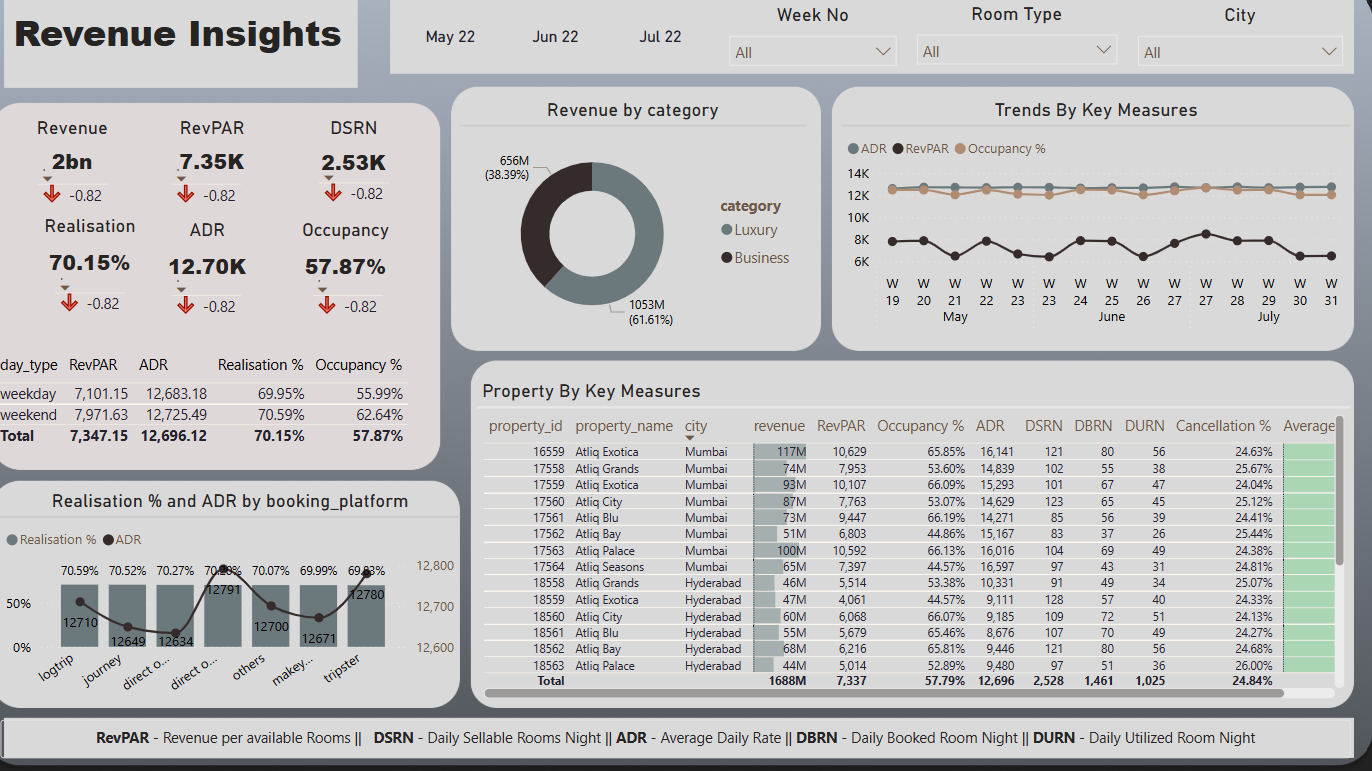

Layout of this report page (visuals, bound fields, positions):
{"tool":"powerbi","page":{"name":"Dashboard","canvas":[1280,720],"ordinal":0},"visuals":[{"type":"tableEx","fields":{"Values":["key_measure.Revenue WoW change %"]},"box":[46.9,149,75.9,73.4],"z":0,"group":"g2"},{"type":"tableEx","title":"Property By Key Measures","fields":{"Values":["dim_hotels.property_id","dim_hotels.property_name","dim_hotels.city","key_measure.revenue","key_measure.RevPAR","key_measure.Occupancy %","key_measure.ADR","key_measure.DSRN","key_measure.DBRN","key_measure.DURN","key_measure.Cancellation %","key_measure.Average Rating"]},"box":[455.8,360.4,797.7,296.5],"z":0,"group":"g3"},{"type":"advancedSlicerVisual","fields":{"Values":["dim_date.mmm yy"]},"box":[381.4,15.1,294.2,61.6],"z":1000,"group":"g3"},{"type":"card","title":"Revenue","fields":{"Values":["key_measure.revenue"]},"box":[26.7,118.6,117.7,67.1],"z":1000,"group":"g2"},{"type":"donutChart","title":"Revenue by category","fields":{"Category":["dim_hotels.category"],"Y":["key_measure.revenue"]},"box":[439.5,103.5,317.4,220.9],"z":2000,"group":"g3"},{"type":"tableEx","fields":{"Values":["key_measure.Revenue WoW change %"]},"box":[63.4,248.9,87.3,62],"z":2000,"group":"g2"},{"type":"slicer","title":"City","fields":{"Values":["dim_hotels.city"]},"box":[1049.5,16,207.4,63.1],"z":3000,"group":"g1"},{"type":"lineChart","title":"Trends By Key Measures","fields":{"Category":["dim_date.mmm yy.Variation.Date Hierarchy.Month","dim_date.week no"],"Y":["key_measure.ADR","key_measure.RevPAR"],"Y2":["key_measure.Occupancy %"]},"box":[788.3,103.5,465.1,220.9],"z":3000,"group":"g3"},{"type":"card","title":"Realisation","fields":{"Values":["key_measure.Realisation %"]},"box":[46.9,208.4,108.8,72.1],"z":3000,"group":"g2"},{"type":"slicer","title":"Room Type","fields":{"Values":["dim_rooms.room_class"]},"box":[846.8,15.1,203.3,62.4],"z":4000,"group":"g1"},{"type":"tableEx","fields":{"Values":["key_measure.Revenue WoW change %"]},"box":[169.7,251.5,83.5,59.5],"z":4000,"group":"g2"},{"type":"lineStackedColumnComboChart","fields":{"Y":["key_measure.Realisation %"],"Category":["fact_booking.booking_platform"],"Y2":["key_measure.ADR"]},"box":[19.7,460.5,419.8,196.5],"z":4000,"group":"g3"},{"type":"card","title":"ADR","fields":{"Values":["key_measure.ADR"]},"box":[150.7,212.2,115.1,72.1],"z":5000,"group":"g2"},{"type":"tableEx","fields":{"Values":["dim_date.day_type","key_measure.RevPAR","key_measure.ADR","key_measure.Realisation %","key_measure.Occupancy %"]},"box":[8.8,331.9,415.1,103.5],"z":5000,"group":"g3"},{"type":"slicer","title":"Week No","fields":{"Values":["dim_date.week no"]},"box":[675.5,16,173.4,63.1],"z":6000,"group":"g1"},{"type":"tableEx","fields":{"Values":["key_measure.Revenue WoW change %"]},"box":[298.7,251.5,105,59.5],"z":6000,"group":"g2"},{"type":"textbox","box":[19.7,670.9,1233.7,34.9],"z":6000,"group":"g3"},{"type":"textbox","box":[26.7,15.1,333.7,88.4],"z":7000,"group":"g3"},{"type":"card","title":"Occupancy","fields":{"Values":["key_measure.Occupancy %"]},"box":[274.7,212.2,121.5,72.1],"z":7000,"group":"g2"},{"type":"group","id":"g1","title":"Group 1","box":[675.5,15.1,581.4,64],"z":8000,"group":"g3"},{"type":"tableEx","fields":{"Values":["key_measure.Revenue WoW change %"]},"box":[304.6,148.7,82.8,60.1],"z":8000,"group":"g2"},{"type":"group","id":"g2","title":"Group 2","box":[26.7,118.6,377.9,193],"z":9000,"group":"g3"},{"type":"card","title":"DSRN","fields":{"Values":["key_measure.DSRN"]},"box":[281,118.6,122.7,68.3],"z":9000,"group":"g2"},{"type":"group","id":"g3","title":"Group 3","box":[8.8,15.1,1248.1,690.7],"z":9001},{"type":"tableEx","fields":{"Values":["key_measure.Revenue WoW change %"]},"box":[169.7,149,83.5,63.3],"z":10000,"group":"g2"},{"type":"card","title":"RevPAR","fields":{"Values":["key_measure.RevPAR"]},"box":[150.7,118.6,124,67.1],"z":11000,"group":"g2"}]}

Visuals, with their boxes in screenshot pixels (x1, y1, x2, y2), scaled from the page's 1280x720 canvas onto the 1372x771 screenshot:
tableEx - key_measure.Revenue WoW change %: 50 160 132 238
"Property By Key Measures" tableEx: 489 386 1344 703
advancedSlicerVisual - dim_date.mmm yy: 409 16 724 82
"Revenue" card: 29 127 155 199
"Revenue by category" donutChart: 471 111 811 347
tableEx - key_measure.Revenue WoW change %: 68 267 162 333
"City" slicer: 1125 17 1347 85
"Trends By Key Measures" lineChart: 845 111 1343 347
"Realisation" card: 50 223 167 300
"Room Type" slicer: 908 16 1126 83
tableEx - key_measure.Revenue WoW change %: 182 269 271 333
lineStackedColumnComboChart - key_measure.Realisation % x fact_booking.booking_platform: 21 493 471 704
"ADR" card: 162 227 285 304
tableEx - dim_date.day_type x key_measure.RevPAR: 9 355 454 466
"Week No" slicer: 724 17 910 85
tableEx - key_measure.Revenue WoW change %: 320 269 433 333
textbox: 21 718 1343 756
textbox: 29 16 386 111
"Occupancy" card: 294 227 425 304
"Group 1" group: 724 16 1347 85
tableEx - key_measure.Revenue WoW change %: 326 159 415 224
"Group 2" group: 29 127 434 334
"DSRN" card: 301 127 433 200
"Group 3" group: 9 16 1347 756
tableEx - key_measure.Revenue WoW change %: 182 160 271 227
"RevPAR" card: 162 127 294 199
